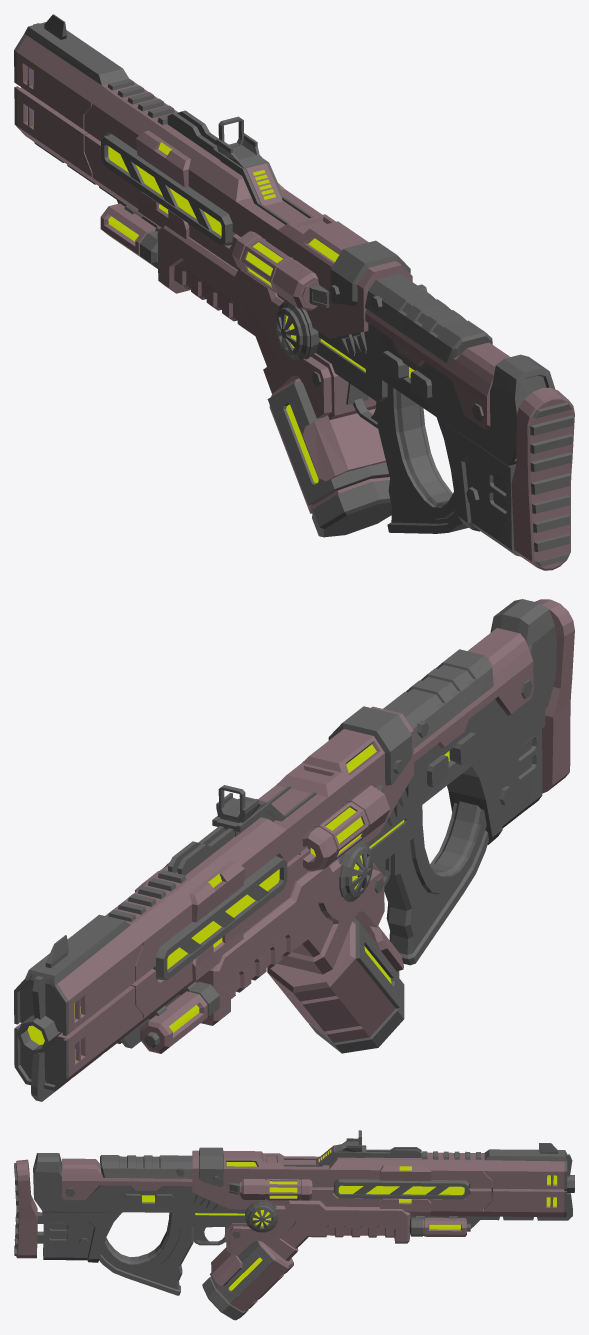
File: remake_467.glb
3 renders of one model, top to bottom at view 1: azimuth 30°, elevation 25°; view 2: azimuth 150°, elevation 25°; view 3: azimuth 270°, elevation 25°, orthographic. The views are drawn at different scales.
Parts seen in each view (by area): view 1: remake_467; view 2: remake_467; view 3: remake_467.
Boxes of the visible parts, x1,y1,x2,y2 form: remake_467: (14,14,574,570); remake_467: (14,599,574,1101); remake_467: (14,1130,574,1320).
Size of the model in its own units: 0.1529 by 0.5056 by 1.4.
